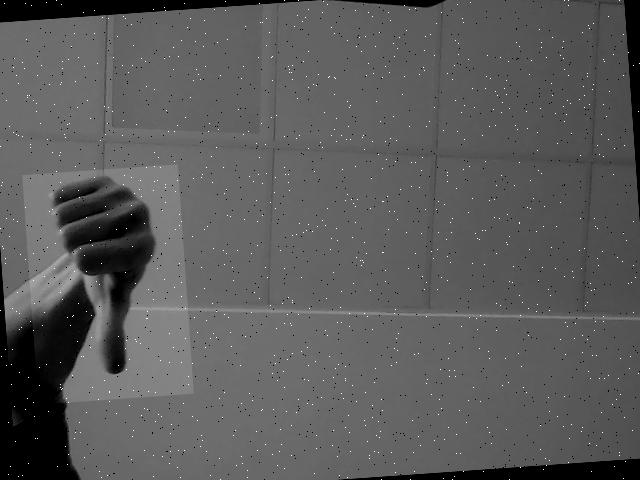bad: (22, 164, 194, 404)
